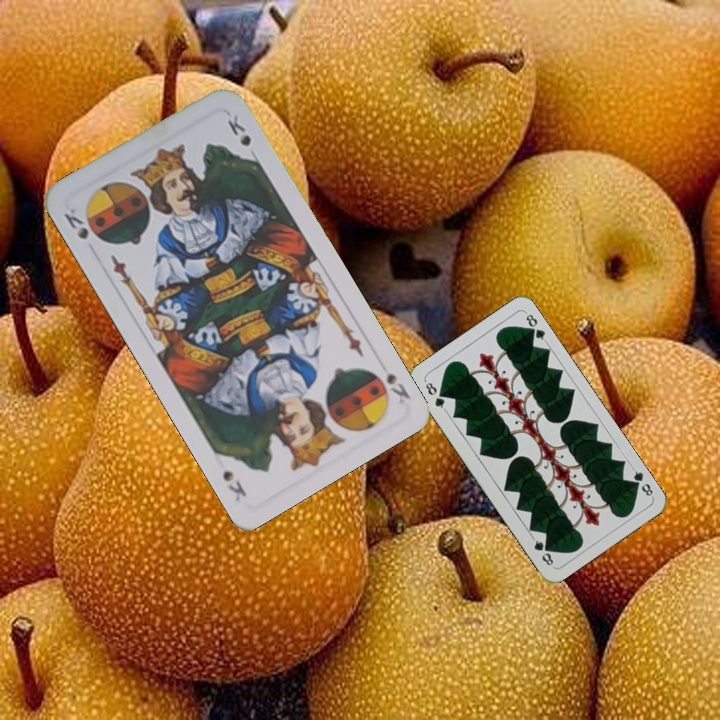G8: (627, 463, 656, 500), (421, 377, 448, 413)
SK: (59, 203, 92, 242), (382, 369, 413, 407)
